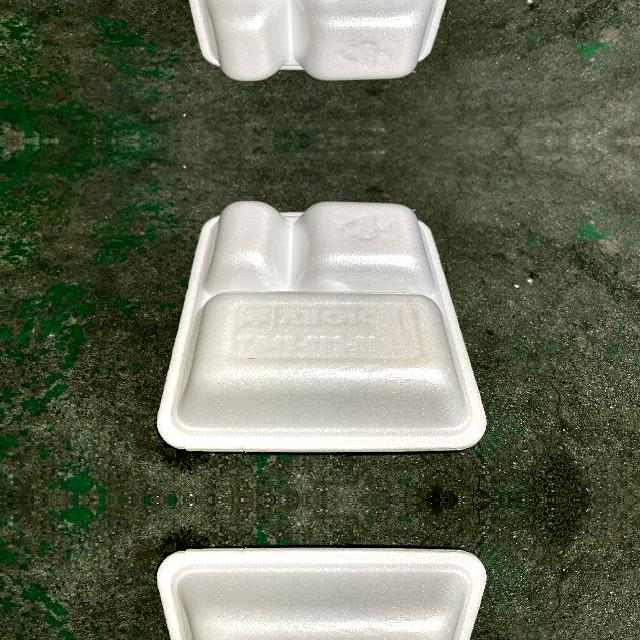Styrofoam: (157, 200, 486, 452), (157, 200, 488, 450), (157, 546, 486, 640), (156, 548, 487, 640), (156, 0, 487, 80), (190, 0, 446, 80)
